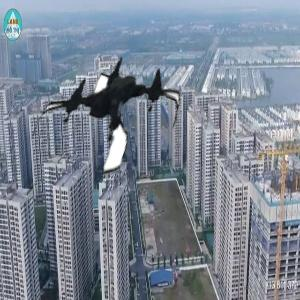drone: (37, 47, 182, 192)
